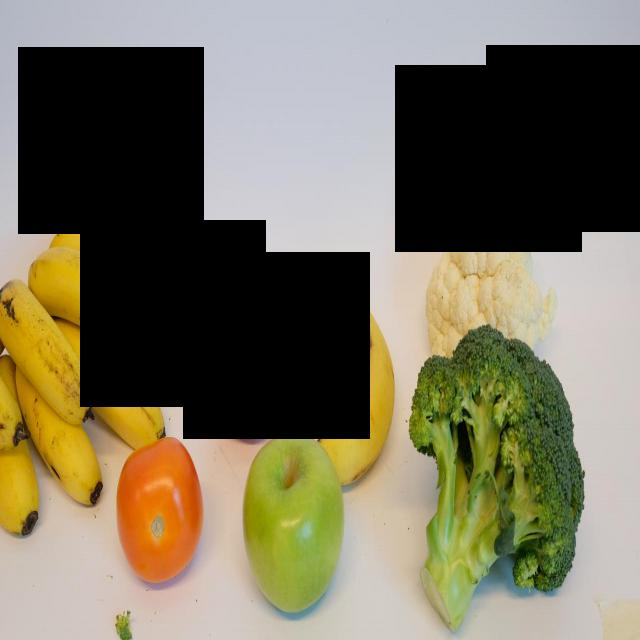apple: (244, 420, 346, 625), (207, 281, 293, 434)
banana: (307, 243, 396, 504), (54, 310, 174, 453), (48, 203, 187, 321), (27, 252, 157, 376), (0, 274, 95, 426), (16, 353, 102, 510)
broccoli: (404, 321, 598, 636)
cauliflower: (418, 173, 557, 385)
tomato: (116, 426, 207, 598)
